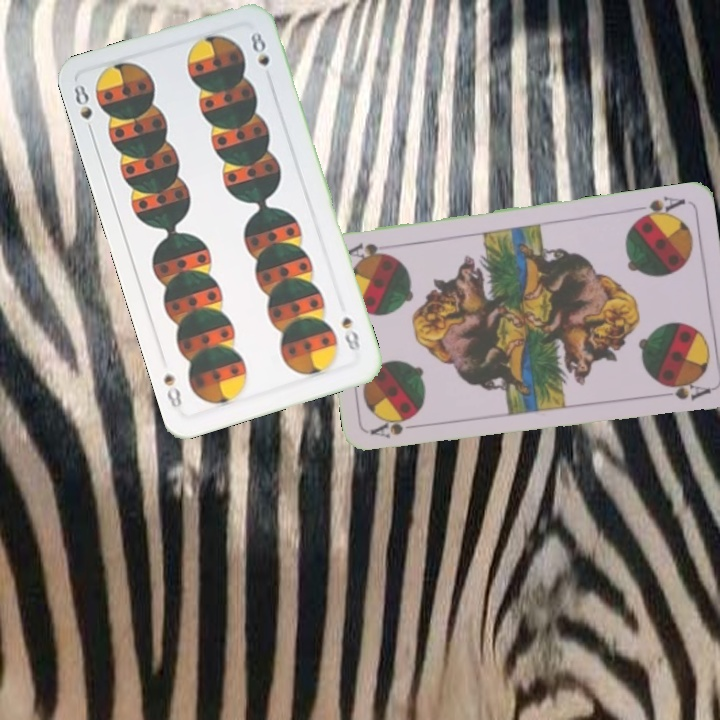S8: (70, 80, 96, 138), (337, 313, 363, 353)
SA: (631, 192, 688, 224), (367, 416, 426, 441)
